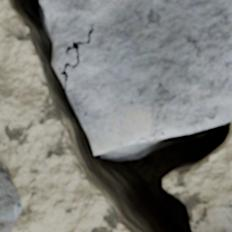brick: (41, 0, 231, 152), (0, 165, 21, 231)
crack: (2, 0, 231, 231)
